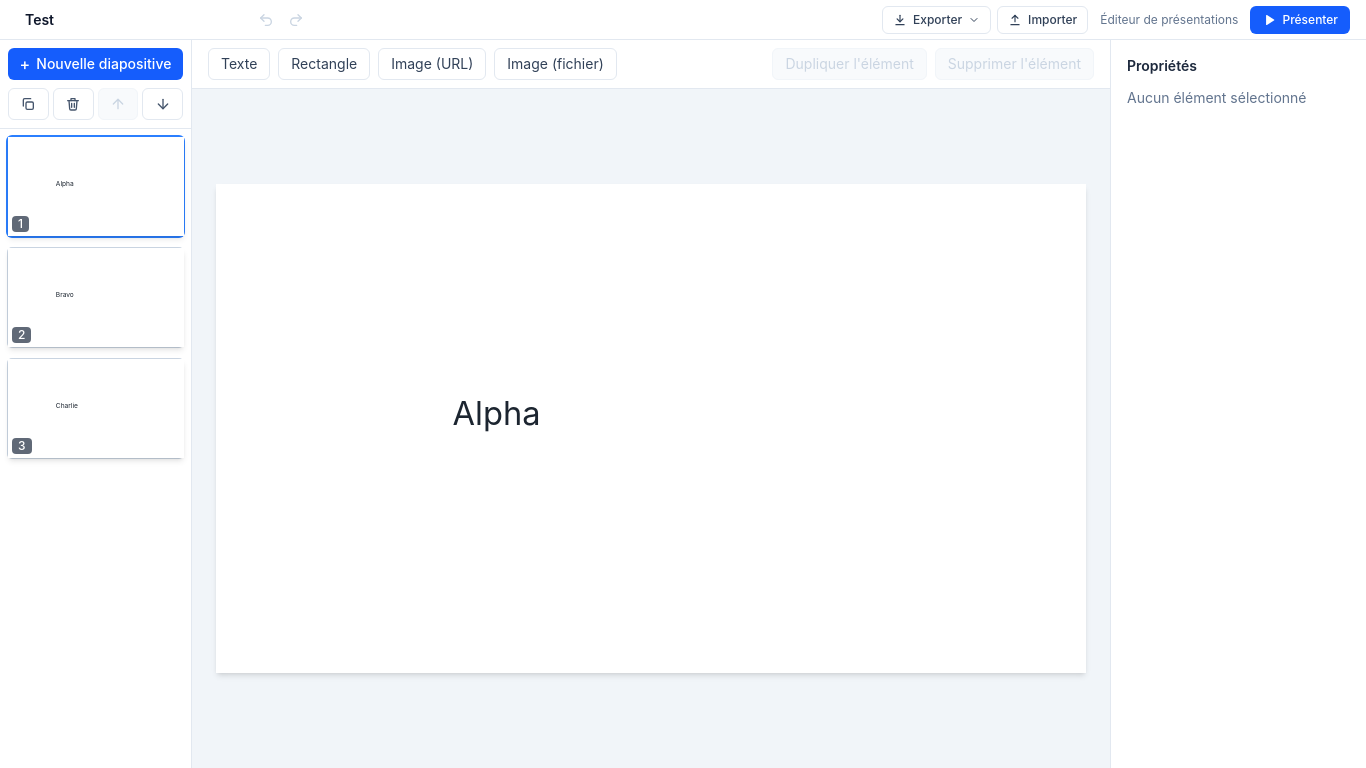
EditorLayout : export PowerPoint › le menu Exporter propose PowerPoint, avec la mention LibreOffice
This screenshot has width=1366, height=768.
Click the button "Exporter": (937, 20) [882,6,991,34]
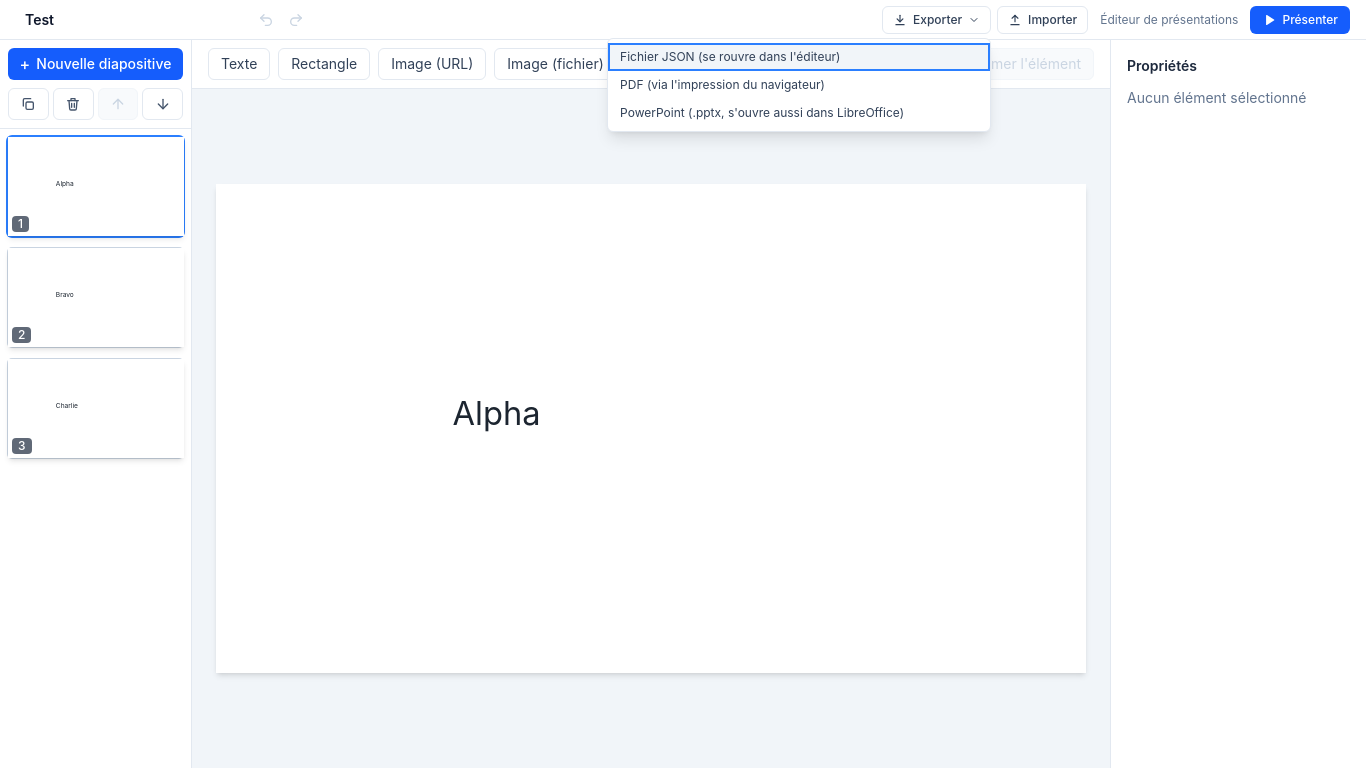
Result: the menu item "PowerPoint (.pptx, s'ouvre aussi dans LibreOffice)" is shown at [608,98,990,126]
